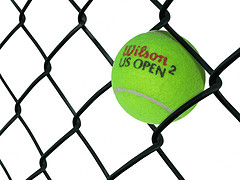tennis ball: (111, 29, 207, 125)
